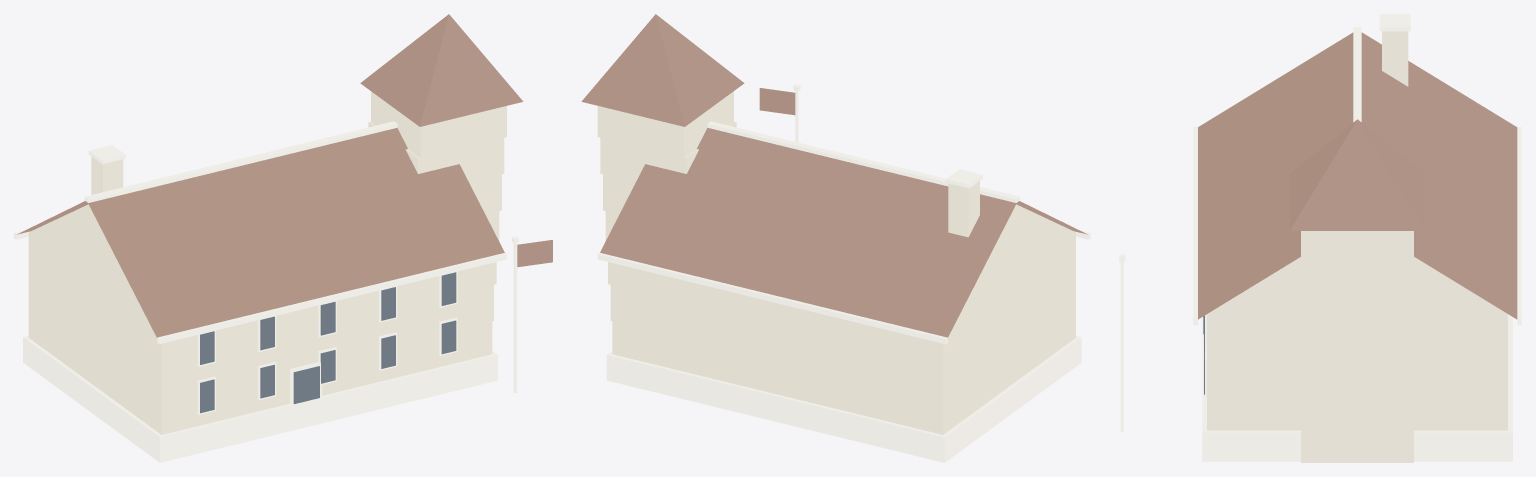
The model's file is Blender_Clubhouse_manor.glb.
The picture shows the model from 3 angles, left to right: view 1: azimuth 30°, elevation 25°; view 2: azimuth 150°, elevation 25°; view 3: azimuth 270°, elevation 25°; orthographic projection. The views are drawn at different scales.
Parts seen in each view (by area): view 1: Blender_Clubhouse_manor; view 2: Blender_Clubhouse_manor; view 3: Blender_Clubhouse_manor.
Part boxes in pixels (left/top/right/bottom): Blender_Clubhouse_manor: left=14, top=14, right=552, bottom=462; Blender_Clubhouse_manor: left=581, top=14, right=1090, bottom=462; Blender_Clubhouse_manor: left=1119, top=14, right=1521, bottom=462.
Size of the model in its own units: 28.3 by 20.7 by 21.38.
